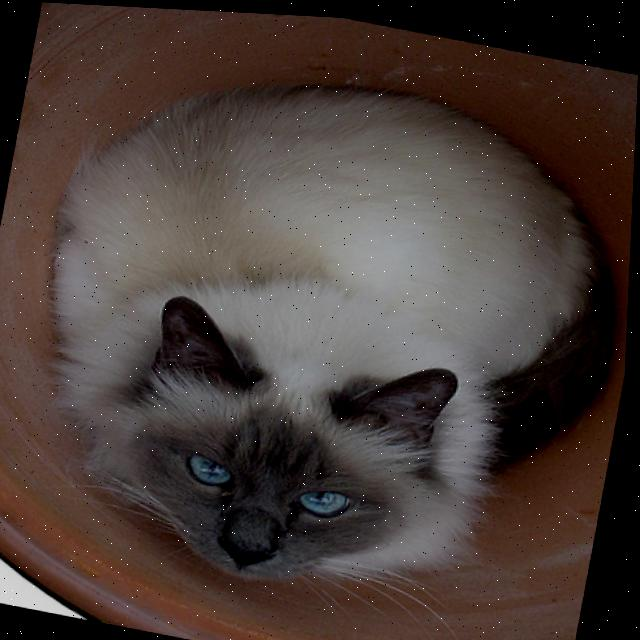Birman: (0, 24, 639, 636)
